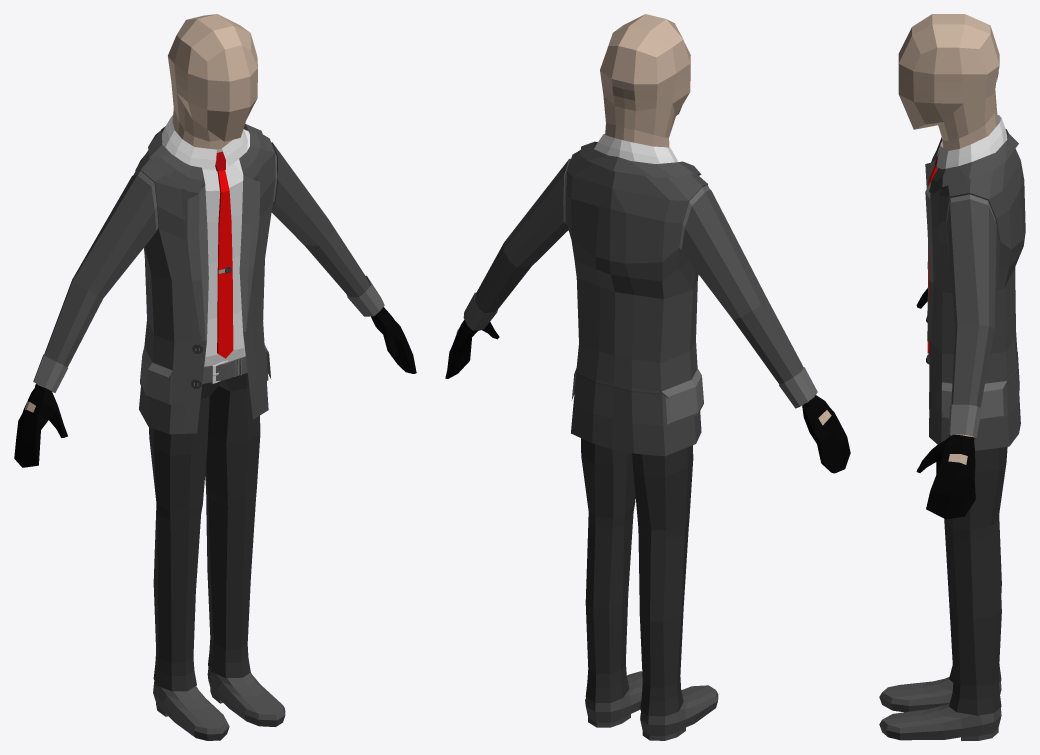
File: Hitmune.fbx
The picture shows the model from 3 angles, left to right: view 1: azimuth 30°, elevation 25°; view 2: azimuth 150°, elevation 25°; view 3: azimuth 270°, elevation 25°; orthographic projection.
Parts seen in each view (by area): view 1: Hitman; view 2: Hitman; view 3: Hitman.
Boxes of the visible parts, <box> form: Hitman: <box>14,14,416,740</box>; Hitman: <box>445,14,850,740</box>; Hitman: <box>879,14,1025,740</box>.
Bounding box in the file's own units: 1219 × 2063 × 391.
